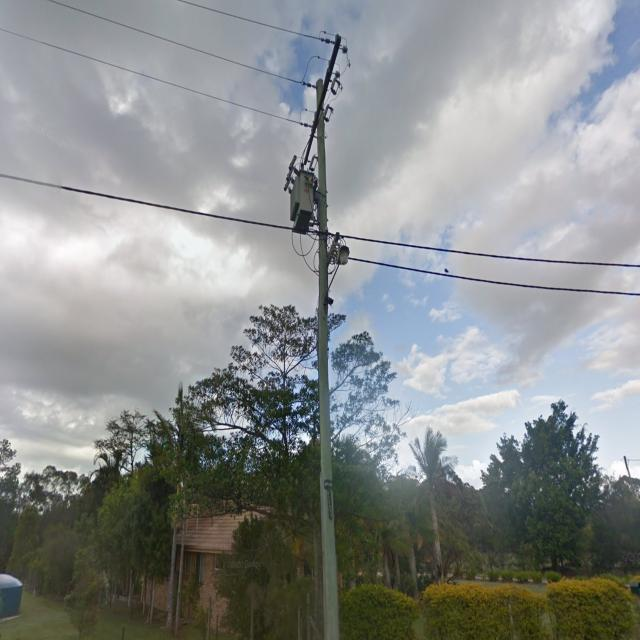HV-transmission: (304, 34, 346, 164)
crossarm: (302, 32, 343, 166), (326, 231, 339, 267)
streetlight: (324, 245, 350, 304)
timber-pole: (315, 77, 339, 640)
transformer: (285, 159, 317, 233)
